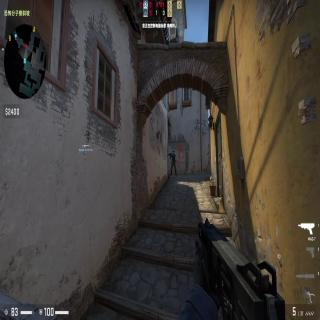T-Body: (170, 151, 177, 176)
